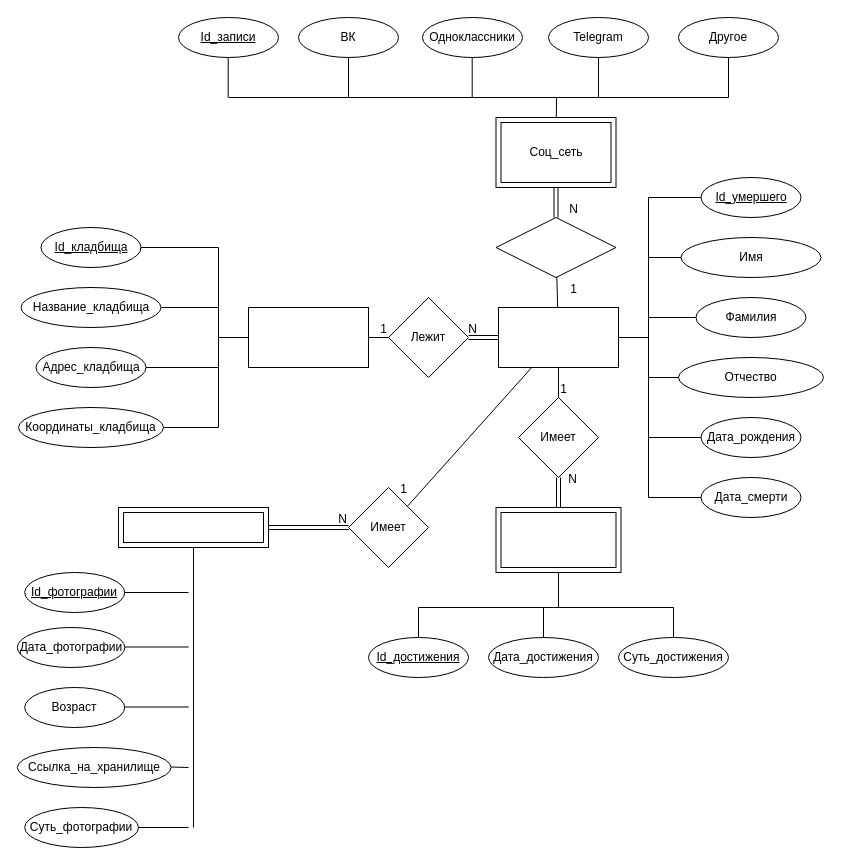
Some shapes in this 842 by 865 pixel diagram are drawn without their labels. Here are the shapes that lost their labels. From the top down, the centre of each, then its label:
At point (555, 247): "Зарегистрирован".
At point (308, 337): "Захоронение".
At point (558, 337): "Умерший".
At point (193, 527): "Фотография_умершего".
At point (558, 539): "Достижение".
